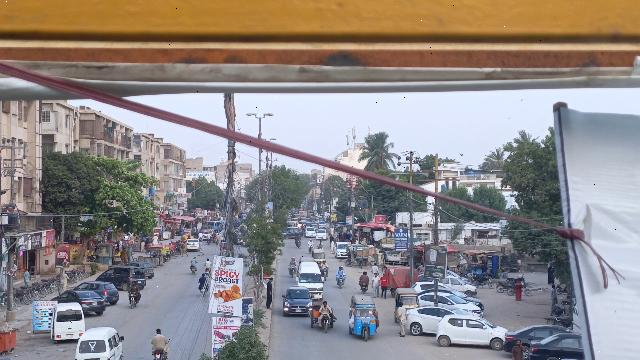Bike: (129, 291, 138, 310), (335, 274, 346, 289), (288, 264, 298, 279), (199, 284, 207, 299), (322, 266, 329, 281), (360, 282, 368, 295), (155, 349, 164, 360), (190, 265, 197, 277), (204, 268, 211, 276)
Car: (436, 311, 507, 351), (503, 321, 567, 355), (406, 304, 460, 336), (50, 288, 106, 316), (529, 331, 583, 360), (418, 292, 482, 316), (95, 265, 146, 289), (73, 280, 120, 303), (281, 285, 314, 317)
Cart: (308, 300, 338, 333)
Person: (395, 301, 408, 337), (151, 327, 168, 348), (549, 283, 560, 312), (512, 338, 526, 360), (265, 277, 274, 308), (379, 272, 388, 299), (372, 271, 380, 297), (318, 300, 331, 315), (127, 280, 140, 293), (359, 270, 370, 284), (197, 273, 208, 286), (335, 266, 346, 277), (188, 255, 198, 266), (288, 255, 297, 266), (204, 257, 212, 268)
Rickshaw: (348, 294, 381, 345), (393, 286, 420, 324)
Van: (74, 326, 123, 360), (49, 301, 86, 343), (296, 261, 324, 298)
